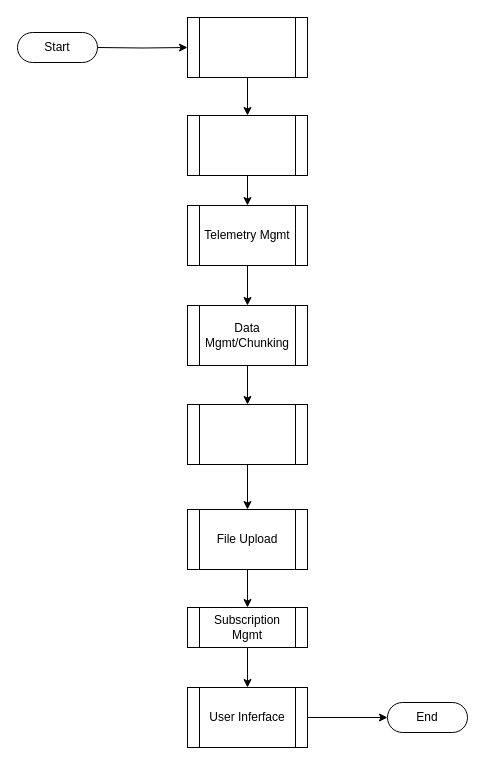
The diagram is 485 pixels wide and 765 high, and some of its shapes have lost their labels. The shapes that lost their labels are listed below. From the top down, each one's centre as x and y in pixels, then its label:
pixel 247 47: Users Mgmt
pixel 247 145: session Mgmt
pixel 247 434: LLM/SLM
